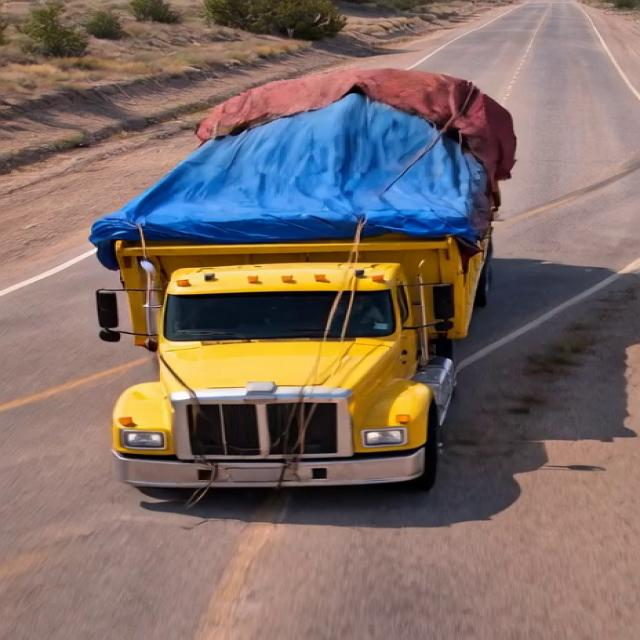Box: (103, 83, 509, 258)
Truck: (64, 57, 559, 519)
